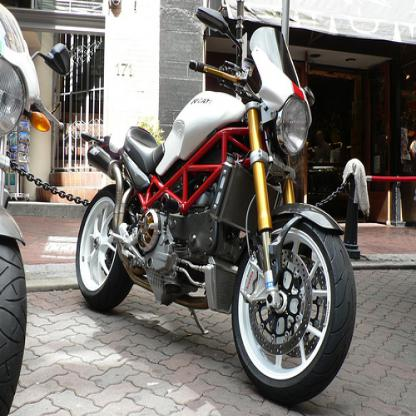motorbike: (75, 6, 358, 407), (0, 0, 71, 415)
